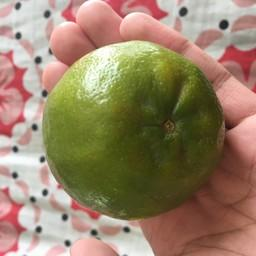Good_orange: (34, 30, 230, 218)
